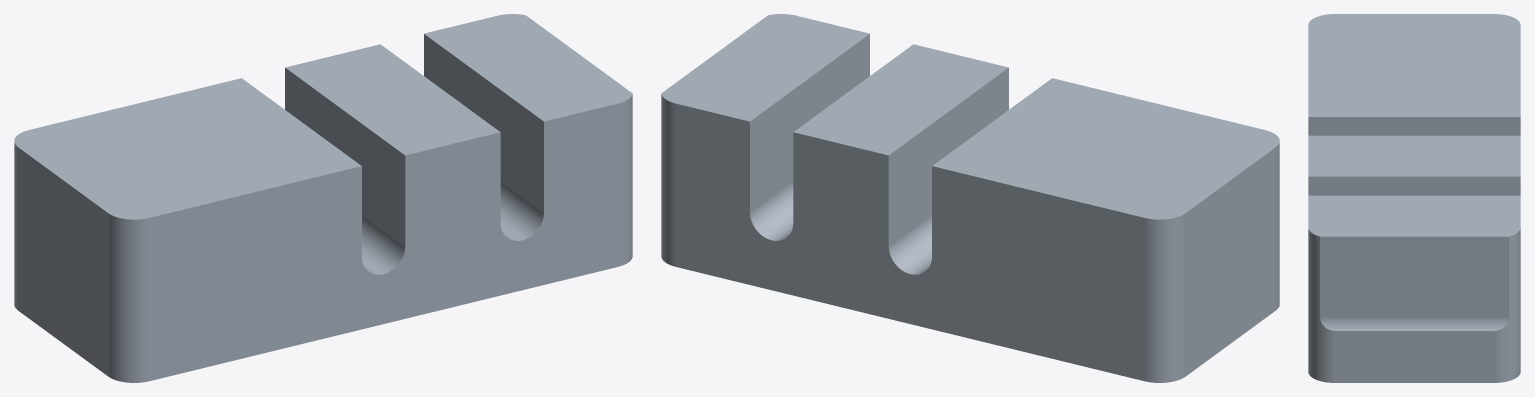
The picture shows the model from 3 angles, left to right: view 1: azimuth 30°, elevation 25°; view 2: azimuth 150°, elevation 25°; view 3: azimuth 270°, elevation 25°; orthographic projection. The views are drawn at different scales.
Visible parts, largest first — view 1: Cable holder; view 2: Cable holder; view 3: Cable holder.
Part boxes in pixels (box(x1,y1,x2,y2)): Cable holder: box(14, 14, 632, 382); Cable holder: box(661, 14, 1279, 382); Cable holder: box(1308, 14, 1520, 382).
Size of the model in its own units: 0.06 by 0.018 by 0.024.
